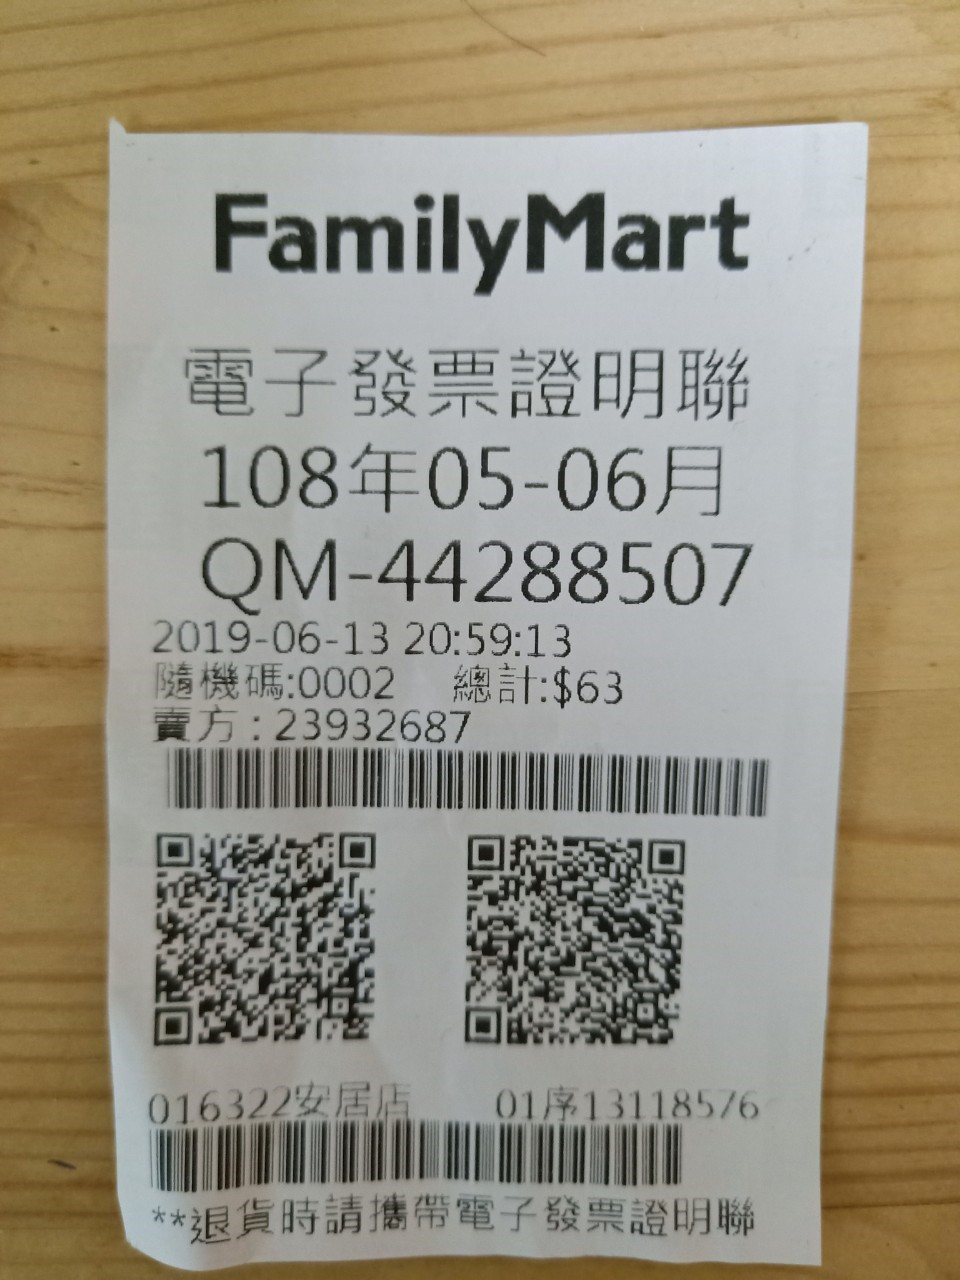Date_New: (194, 437, 728, 517)
Number_New: (376, 537, 758, 608)
